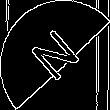N_SE: (24, 23, 86, 87)
